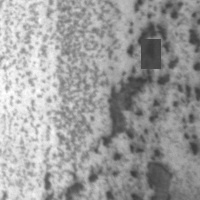inclusion: (141, 39, 161, 69)
patches: (99, 74, 146, 143), (142, 162, 172, 199)
pitted_surface: (1, 1, 108, 182), (105, 1, 200, 161)
